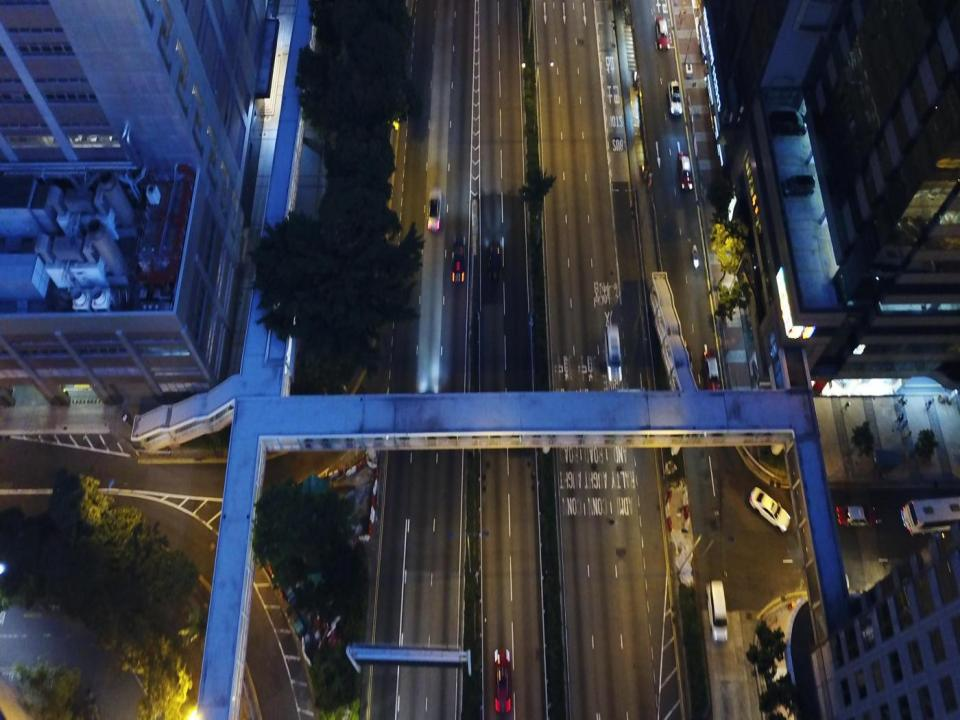bus: (899, 498, 960, 535)
car: (750, 486, 790, 533), (492, 648, 513, 710), (835, 506, 882, 527), (704, 352, 722, 397), (427, 188, 441, 231), (452, 236, 465, 282), (487, 240, 501, 280), (678, 151, 692, 191), (668, 81, 683, 115), (655, 16, 670, 48)
van: (705, 580, 728, 644), (603, 324, 623, 382)
